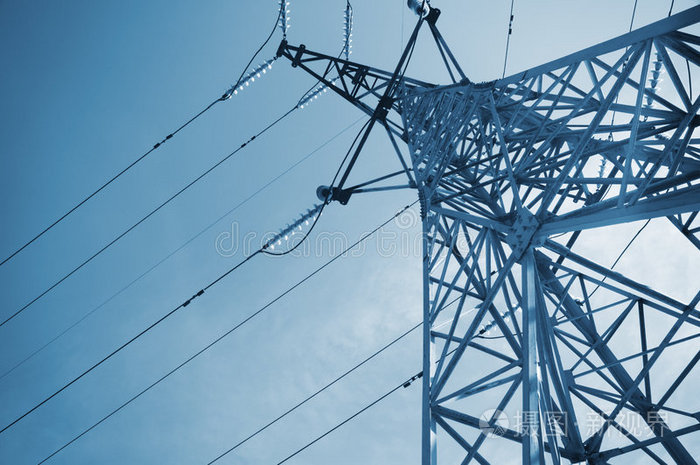insulator: (265, 203, 324, 250), (223, 58, 272, 99), (297, 79, 338, 111), (341, 6, 356, 57), (275, 1, 293, 31)
